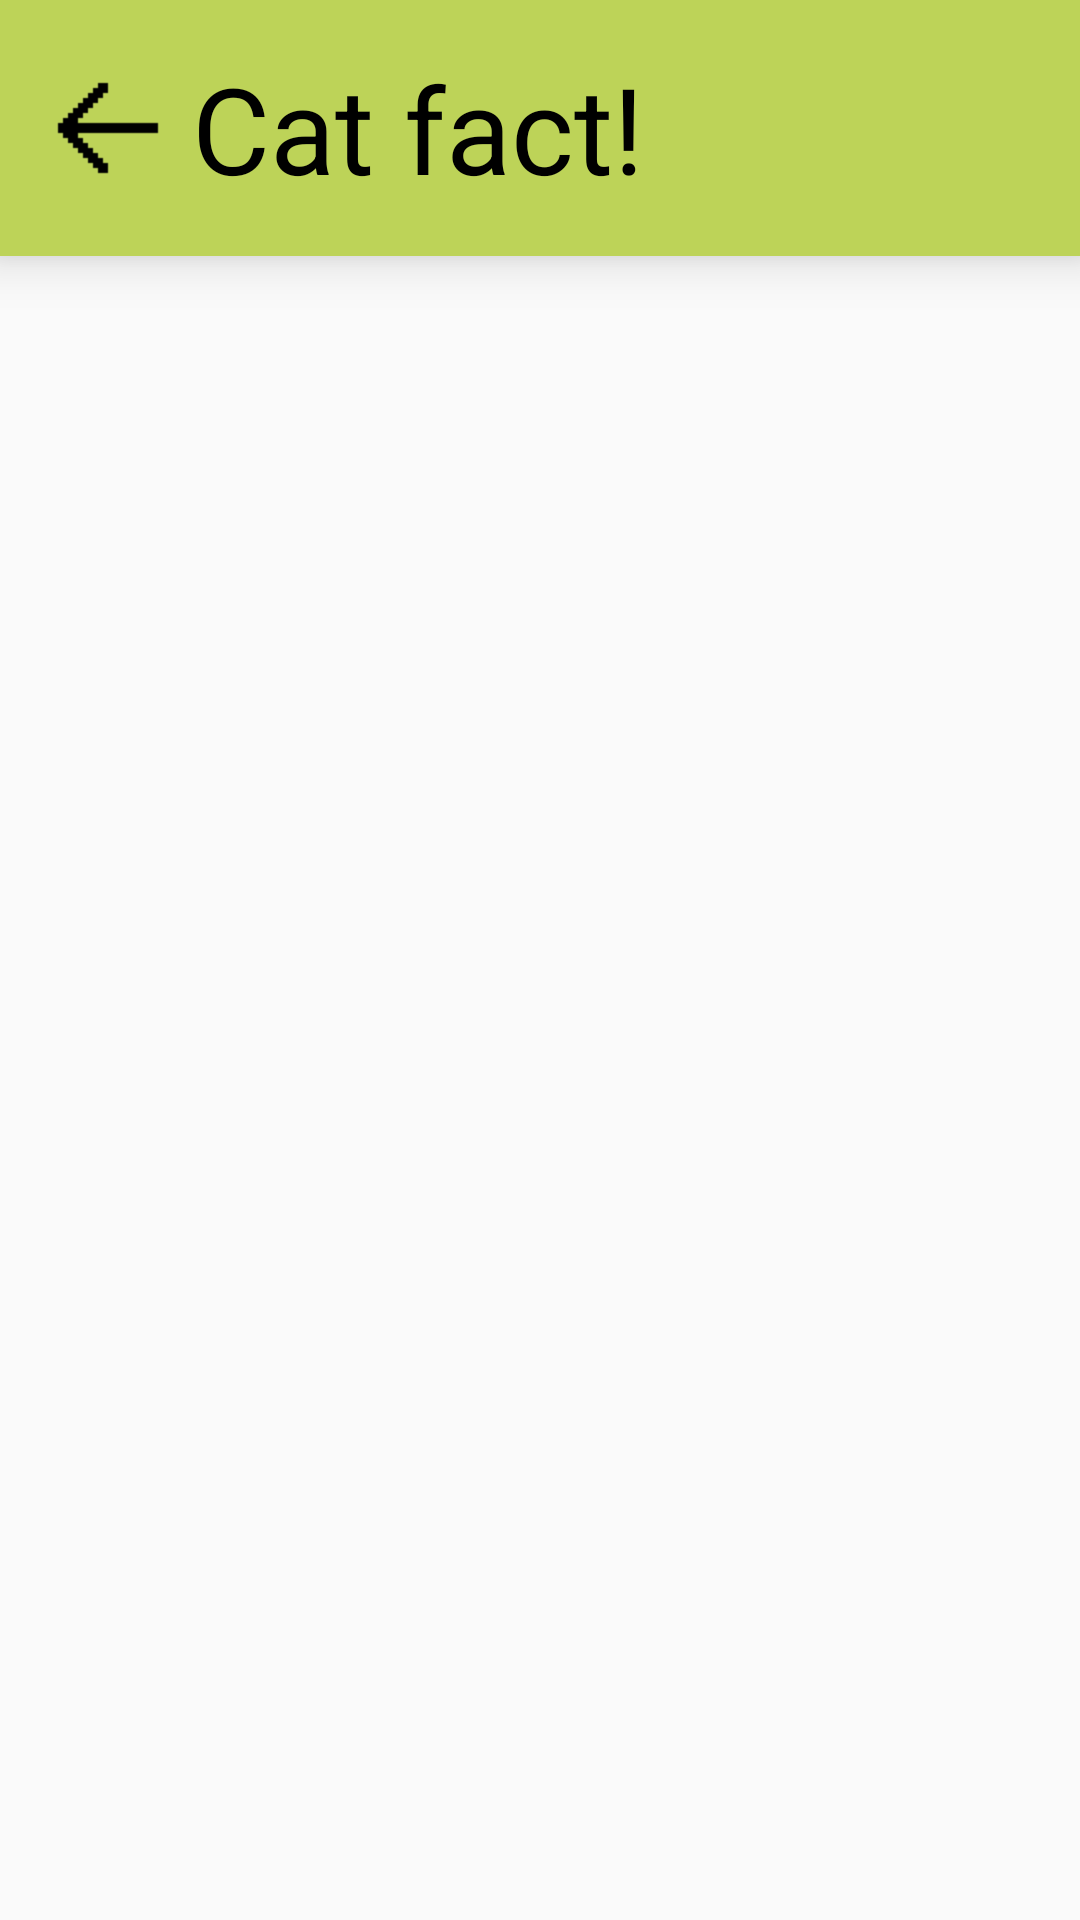

Where to tap for icons on this 1080px x 1920px app screen, as [x,y]:
arrow back: [108,128]
